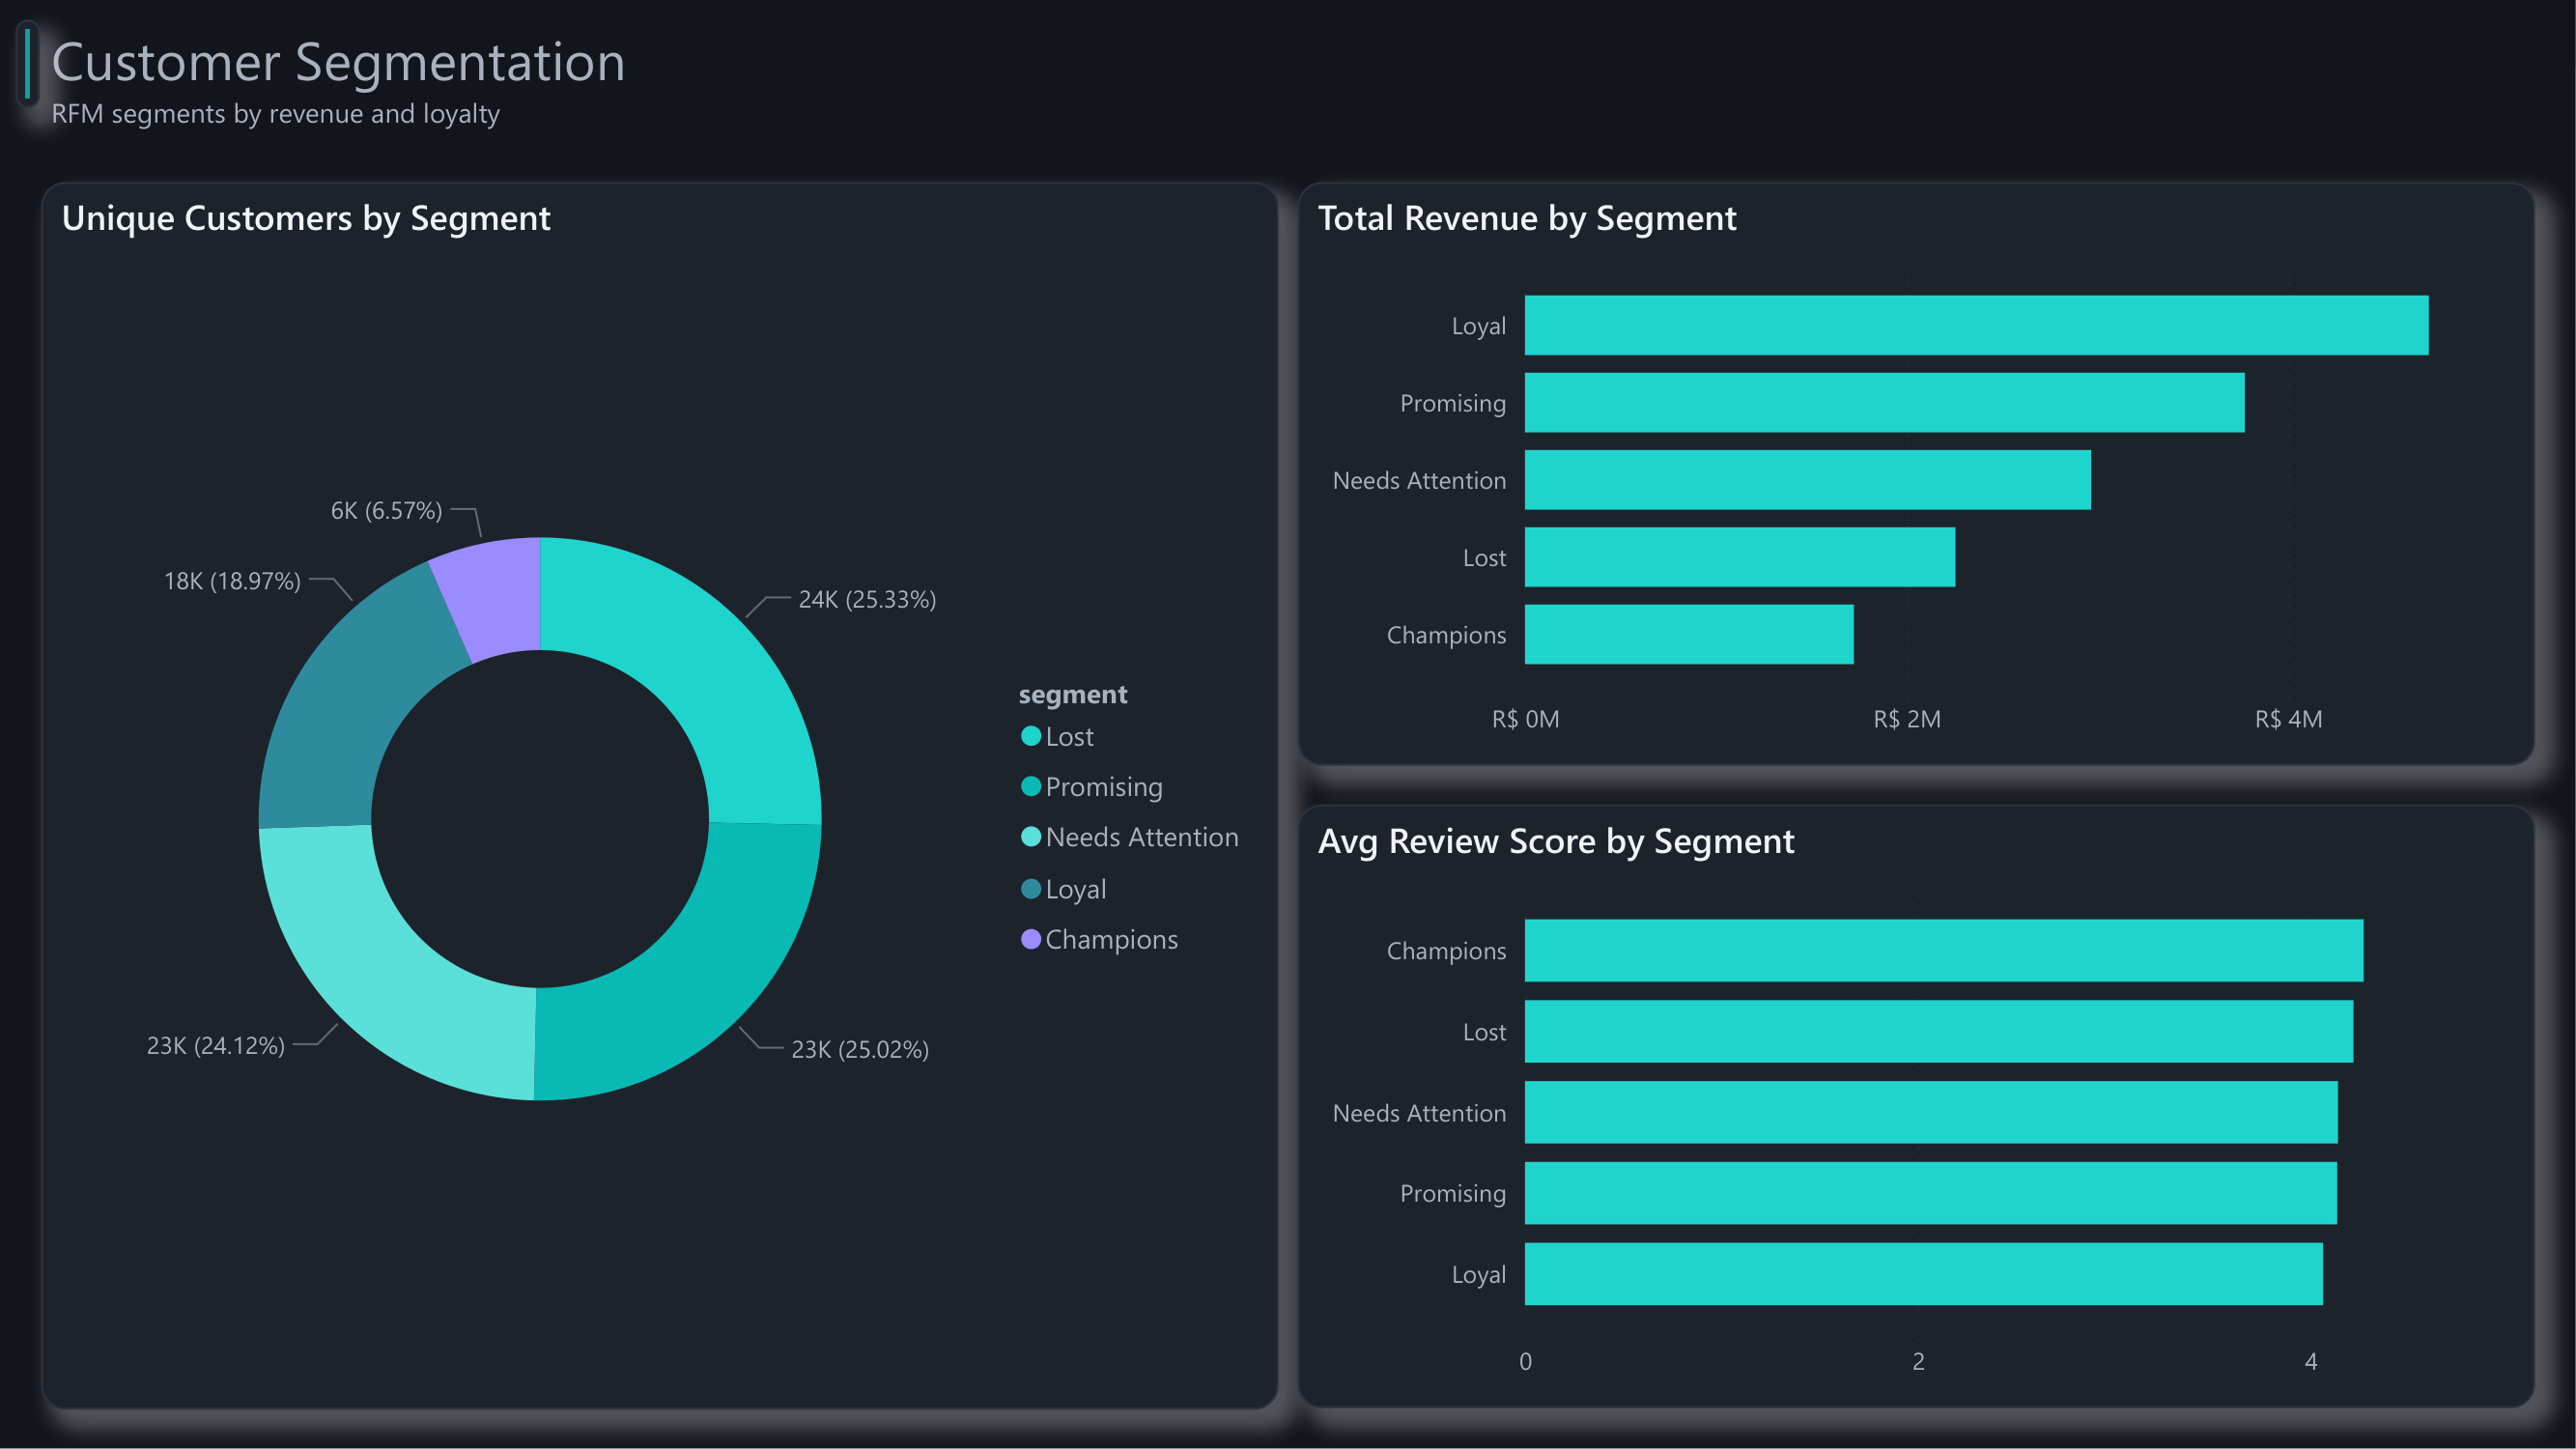

Layout of this report page (visuals, bound fields, positions):
{"tool":"powerbi","page":{"name":"Customer Segments","canvas":[1280,720],"ordinal":3},"visuals":[{"type":"donutChart","title":"Unique Customers by Segment","fields":{"Category":["olist_master_powerbi.segment"],"Y":["olist_master_powerbi.Unique Customers"]},"box":[20,90,615,610],"z":0},{"type":"clusteredBarChart","title":"Total Revenue by Segment","fields":{"Category":["olist_master_powerbi.segment"],"Y":["olist_master_powerbi.Total Revenue"]},"box":[645,90,615,290],"z":1000},{"type":"clusteredBarChart","title":"Avg Review Score by Segment","fields":{"Category":["olist_master_powerbi.segment"],"Y":["olist_master_powerbi.Avg Review Score"]},"box":[645,400,615,300],"z":2000},{"type":"textbox","box":[20,6,780,66],"z":3000},{"type":"shape","box":[8,10,12,44],"z":4000}]}

Visuals, with their boxes in screenshot pixels (x1, y1, x2, y2), scaled from the page's 1280x720 canvas onto the 2576x1449 screenshot:
"Unique Customers by Segment" donutChart: bbox=(41, 182, 1278, 1408)
"Total Revenue by Segment" clusteredBarChart: bbox=(1298, 182, 2535, 765)
"Avg Review Score by Segment" clusteredBarChart: bbox=(1298, 805, 2535, 1408)
textbox: bbox=(41, 12, 1610, 145)
shape: bbox=(16, 20, 41, 109)
